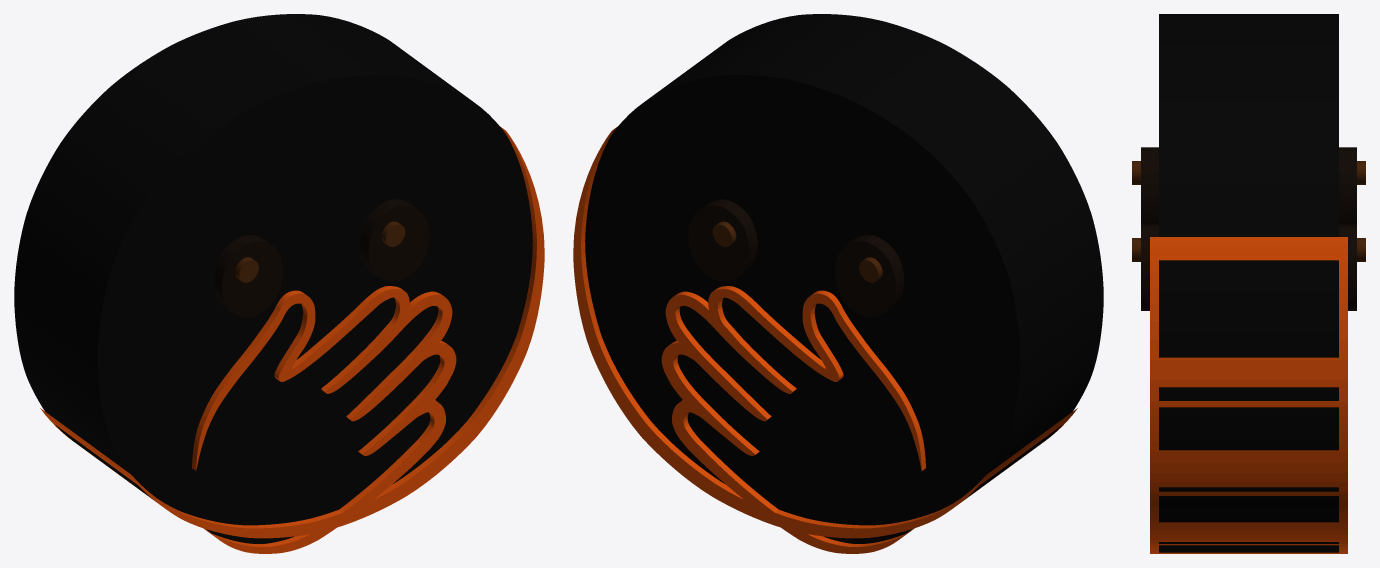
Rendered from U+1FAE2.obj.
3 renders of one model, left to right at view 1: azimuth 30°, elevation 25°; view 2: azimuth 150°, elevation 25°; view 3: azimuth 270°, elevation 25°, orthographic. The views are drawn at different scales.
Parts seen in each view (by area): view 1: U+1FAE2_layer00_obj00, U+1FAE2_layer00_obj01, U+1FAE2_layer01_obj01, U+1FAE2_layer01_obj00, U+1FAE2_layer02_obj01, U+1FAE2_layer02_obj00; view 2: U+1FAE2_layer00_obj00, U+1FAE2_layer00_obj01, U+1FAE2_layer01_obj01, U+1FAE2_layer01_obj00, U+1FAE2_layer02_obj01, U+1FAE2_layer02_obj00; view 3: U+1FAE2_layer00_obj00, U+1FAE2_layer01_obj00, U+1FAE2_layer02_obj00, U+1FAE2_layer02_obj01, U+1FAE2_layer03_obj00, U+1FAE2_layer03_obj01.
Boxes of the visible parts, x1,y1,x2,y2 form: U+1FAE2_layer00_obj00: [14, 14, 532, 525]; U+1FAE2_layer00_obj01: [191, 302, 440, 543]; U+1FAE2_layer01_obj01: [192, 286, 456, 553]; U+1FAE2_layer01_obj00: [40, 126, 544, 538]; U+1FAE2_layer02_obj01: [360, 199, 429, 281]; U+1FAE2_layer02_obj00: [213, 235, 282, 317]; U+1FAE2_layer00_obj00: [585, 14, 1103, 525]; U+1FAE2_layer00_obj01: [677, 300, 926, 543]; U+1FAE2_layer01_obj01: [661, 286, 925, 553]; U+1FAE2_layer01_obj00: [573, 126, 1077, 538]; U+1FAE2_layer02_obj01: [688, 199, 757, 281]; U+1FAE2_layer02_obj00: [835, 235, 904, 317]; U+1FAE2_layer00_obj00: [1159, 14, 1338, 552]; U+1FAE2_layer01_obj00: [1150, 237, 1347, 553]; U+1FAE2_layer02_obj00: [1141, 147, 1356, 224]; U+1FAE2_layer02_obj01: [1141, 224, 1356, 310]; U+1FAE2_layer03_obj00: [1132, 238, 1365, 261]; U+1FAE2_layer03_obj01: [1132, 161, 1365, 184].
Size of the model in its own units: 0.3071 by 0.3035 by 0.13.
